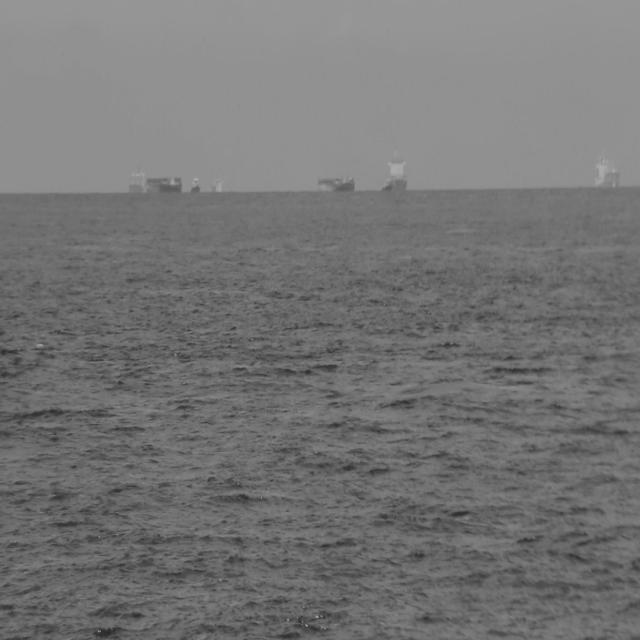ship: (130, 165, 182, 196), (378, 146, 408, 194), (594, 146, 620, 192), (316, 170, 356, 193), (189, 176, 202, 196)
